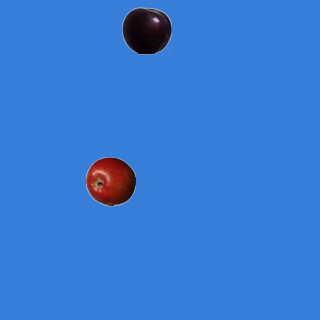Apple Braeburn: (85, 156, 135, 206)
Cherry Wax Black: (121, 5, 171, 55)
